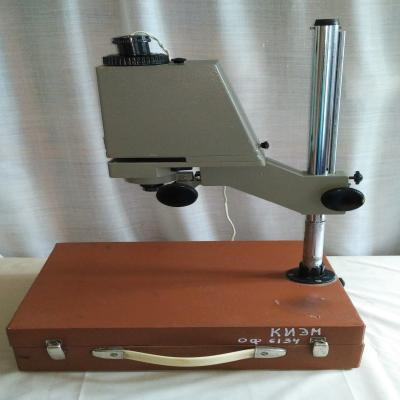technique: (7, 19, 366, 373)
